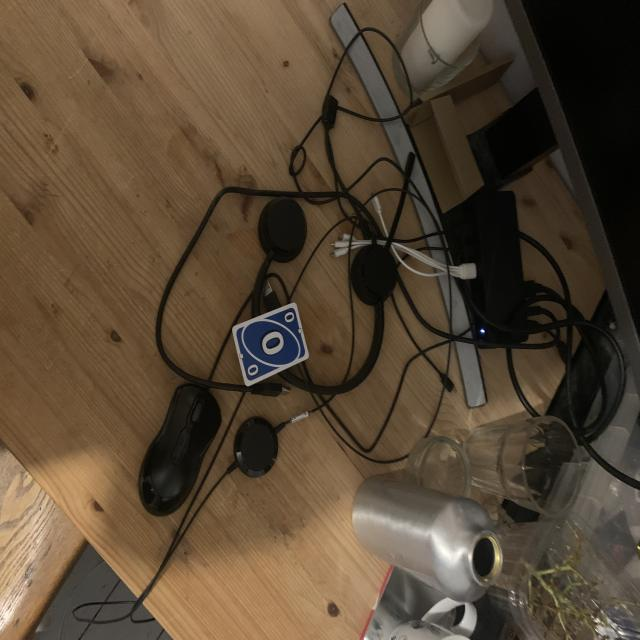lblue-0: (282, 309, 296, 327)
